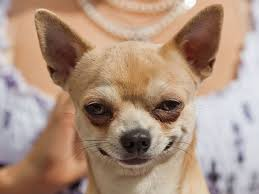chihuahua: (33, 8, 225, 194)
